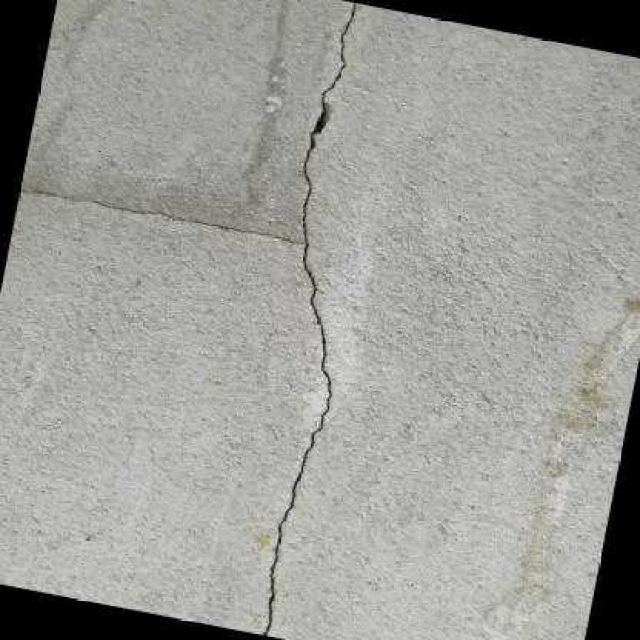D00: (19, 0, 358, 636)
